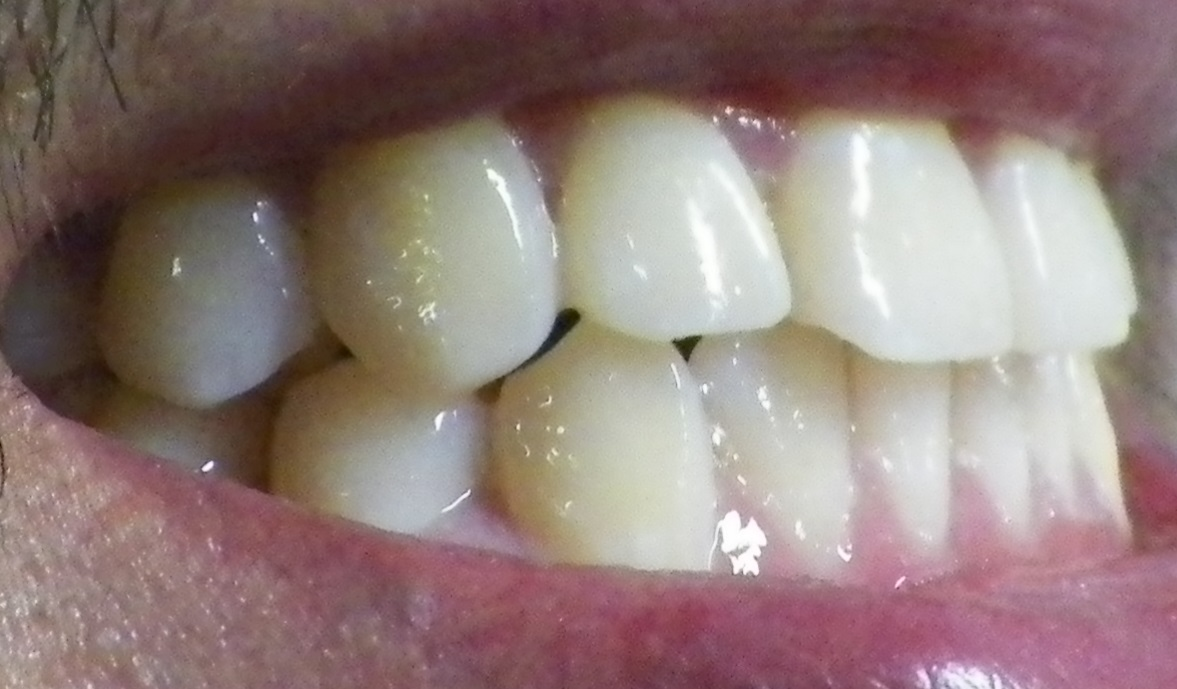boca: (63, 101, 1146, 563)
